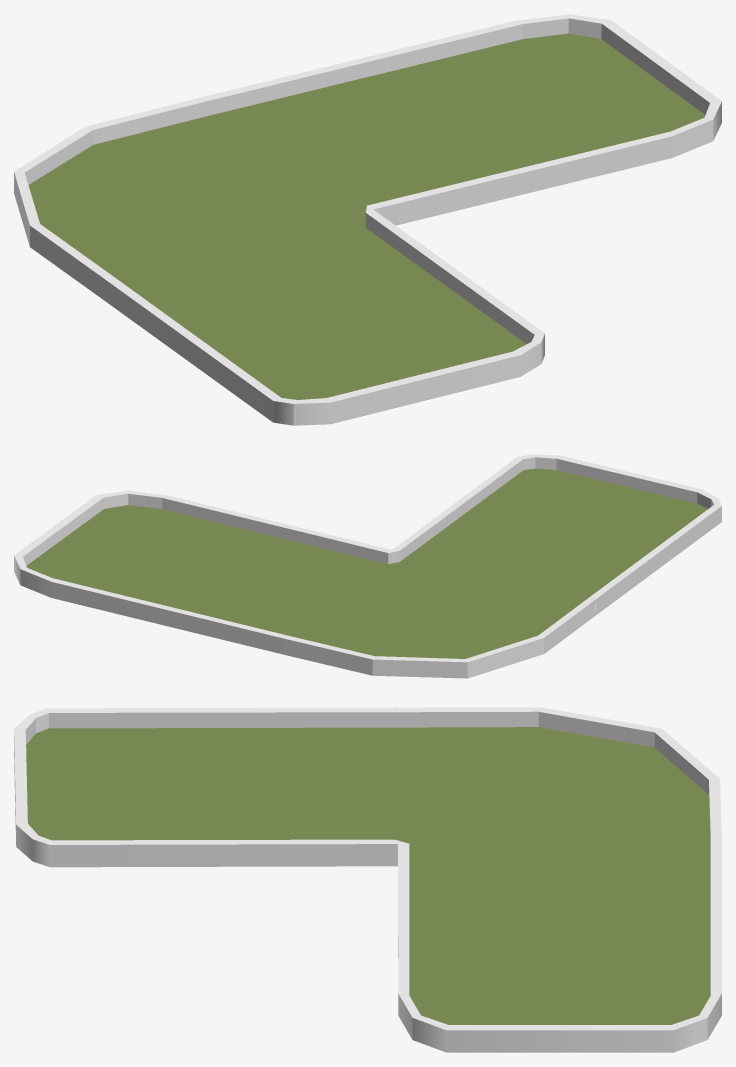
The model's file is curve block.fbx.
3 views of the same model, one above another, from view 1: azimuth 30°, elevation 25°; view 2: azimuth 150°, elevation 25°; view 3: azimuth 270°, elevation 25° (orthographic). The views are drawn at different scales.
Visible parts, largest first — view 1: patter_de_maison_curve; view 2: patter_de_maison_curve; view 3: patter_de_maison_curve.
Part boxes in pixels (bbox=[...]): patter_de_maison_curve: bbox=[14, 14, 721, 425]; patter_de_maison_curve: bbox=[14, 454, 721, 678]; patter_de_maison_curve: bbox=[14, 707, 721, 1052].
Size of the model in its own units: 26953 by 874 by 24934.
